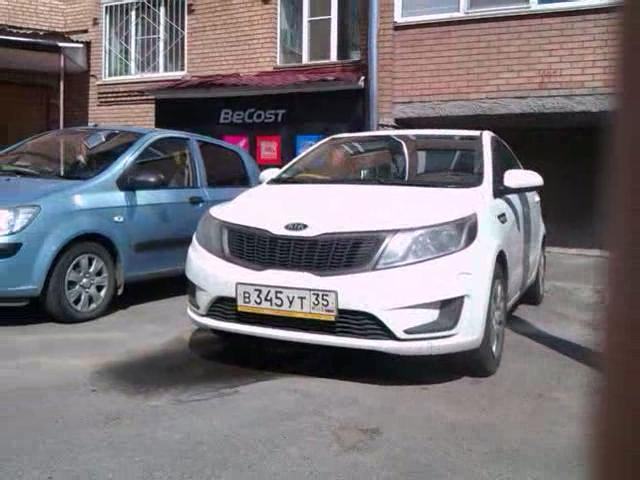car license plate: (235, 284, 342, 319)
